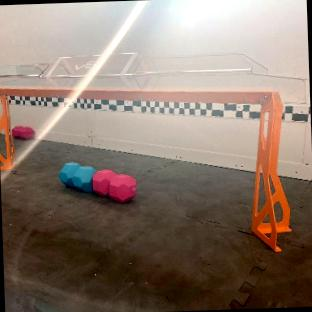V5_BLUE: (59, 163, 96, 191)
V5_RED: (92, 169, 136, 202), (12, 126, 33, 139)
